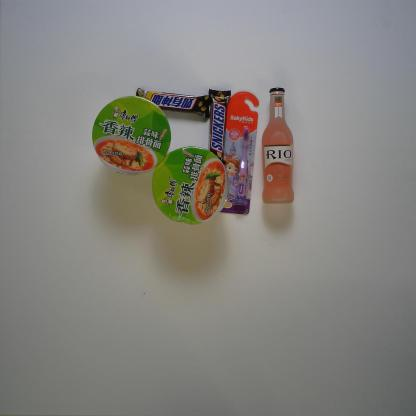Alcohol: (261, 87, 294, 205)
Chocolate: (134, 87, 209, 120), (206, 88, 231, 166)
Instant Noodles: (91, 95, 172, 177), (152, 145, 230, 227)
Personal Hygiene: (219, 91, 259, 216)
